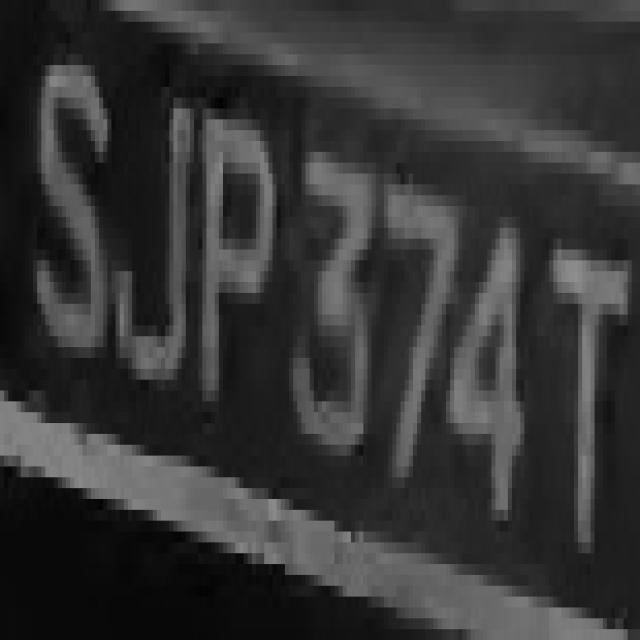3: (293, 87, 376, 510)
4: (442, 173, 528, 542)
7: (380, 141, 450, 542)
J: (103, 44, 194, 402)
P: (194, 65, 281, 467)
S: (29, 0, 111, 391)
T: (533, 184, 636, 596)
